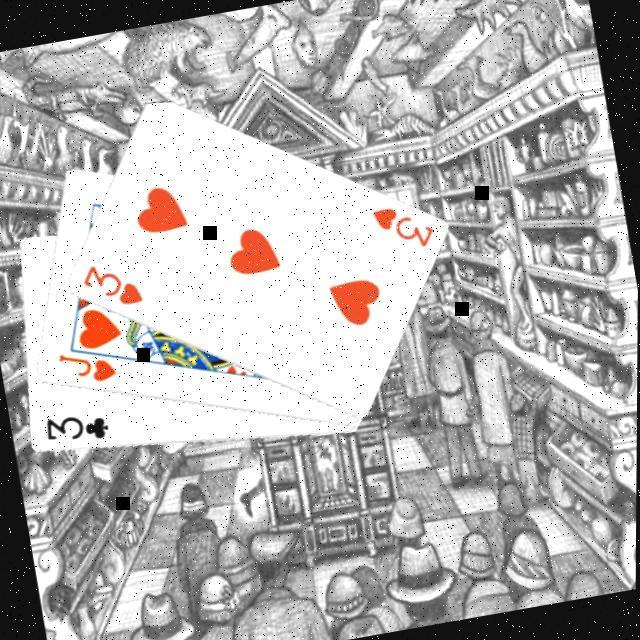3C: (38, 404, 112, 450)
3H: (366, 195, 438, 258), (76, 253, 146, 315)
JH: (52, 340, 120, 390)
